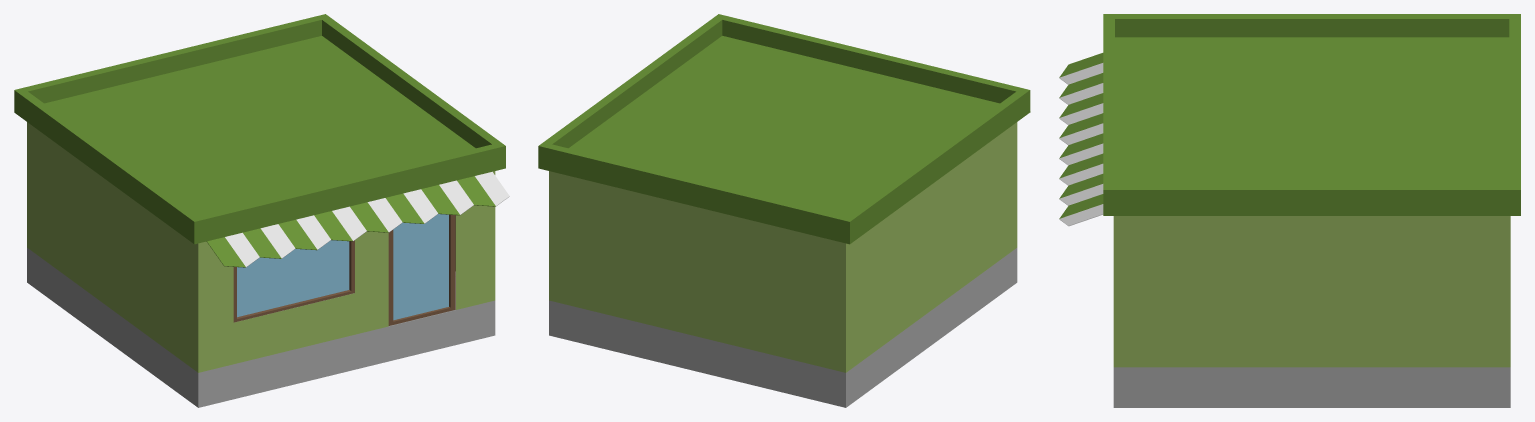
The model's file is building_2.fbx.
The picture shows the model from 3 angles, left to right: view 1: azimuth 30°, elevation 25°; view 2: azimuth 150°, elevation 25°; view 3: azimuth 270°, elevation 25°; orthographic projection. The views are drawn at different scales.
Parts seen in each view (by area): view 1: Cube; view 2: Cube; view 3: Cube.
Boxes of the visible parts, x1,y1,x2,y2 form: Cube: (14, 14, 509, 407); Cube: (538, 14, 1030, 407); Cube: (1059, 14, 1520, 407).
Size of the model in its own units: 583 by 342 by 647.
Materials: 1 (1 with a texture image).
